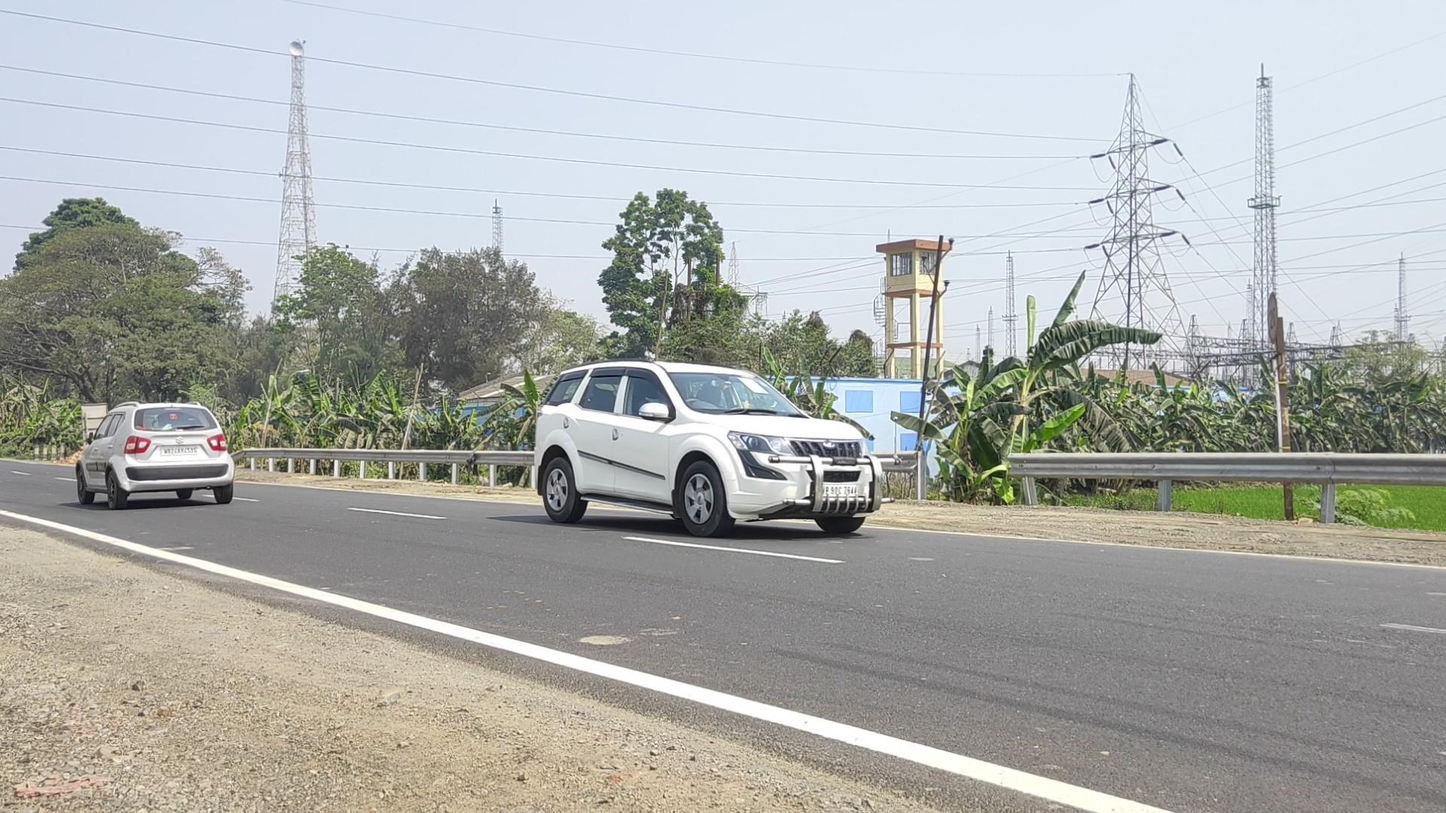car: (535, 359, 901, 537), (75, 401, 234, 510)
